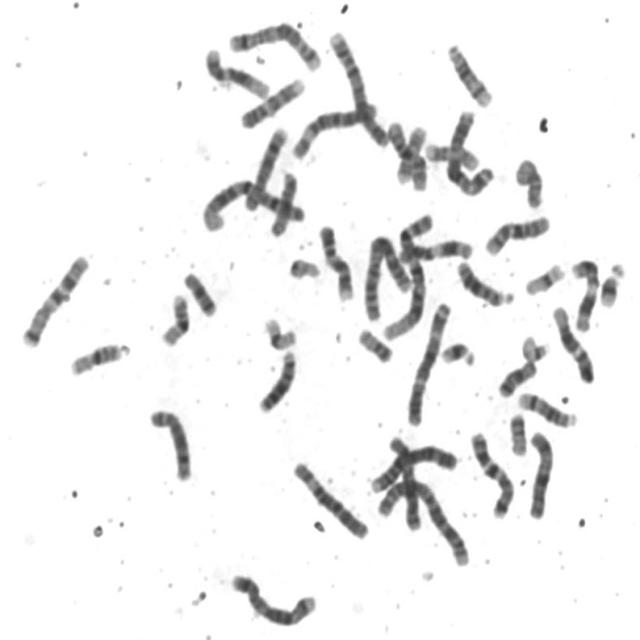A1: (378, 206, 434, 343), (197, 170, 302, 234)
A2: (370, 472, 472, 568), (358, 229, 414, 323)
A3: (402, 294, 453, 428), (441, 102, 498, 198)
B4: (324, 22, 392, 150), (364, 437, 458, 495)
B5: (225, 567, 319, 629), (222, 16, 324, 73)
C10: (382, 115, 430, 193), (479, 208, 553, 257)
C11: (565, 252, 601, 333), (393, 232, 475, 264)
C12: (199, 40, 271, 100), (546, 298, 596, 384)
C6: (288, 454, 372, 542), (287, 94, 380, 162)
C7: (15, 247, 92, 349), (465, 424, 516, 520)
C8: (239, 119, 290, 212), (143, 400, 194, 484)
C9: (236, 71, 306, 130), (313, 218, 356, 302)
D13: (452, 253, 516, 308), (252, 344, 298, 416)
D14: (441, 36, 495, 108), (512, 386, 580, 430)
D15: (264, 166, 300, 238), (514, 156, 545, 212)
E16: (64, 335, 128, 378), (155, 286, 192, 348)
E17: (394, 125, 428, 188), (420, 136, 481, 171)
E18: (178, 264, 218, 318), (493, 354, 539, 398)
F19: (520, 256, 566, 298), (258, 310, 300, 352)
F20: (352, 321, 394, 365), (504, 406, 530, 458)
G21: (595, 256, 626, 310), (434, 334, 478, 369)
G22: (516, 328, 552, 363), (283, 250, 322, 282)
X: (384, 428, 424, 533), (522, 424, 556, 521)
